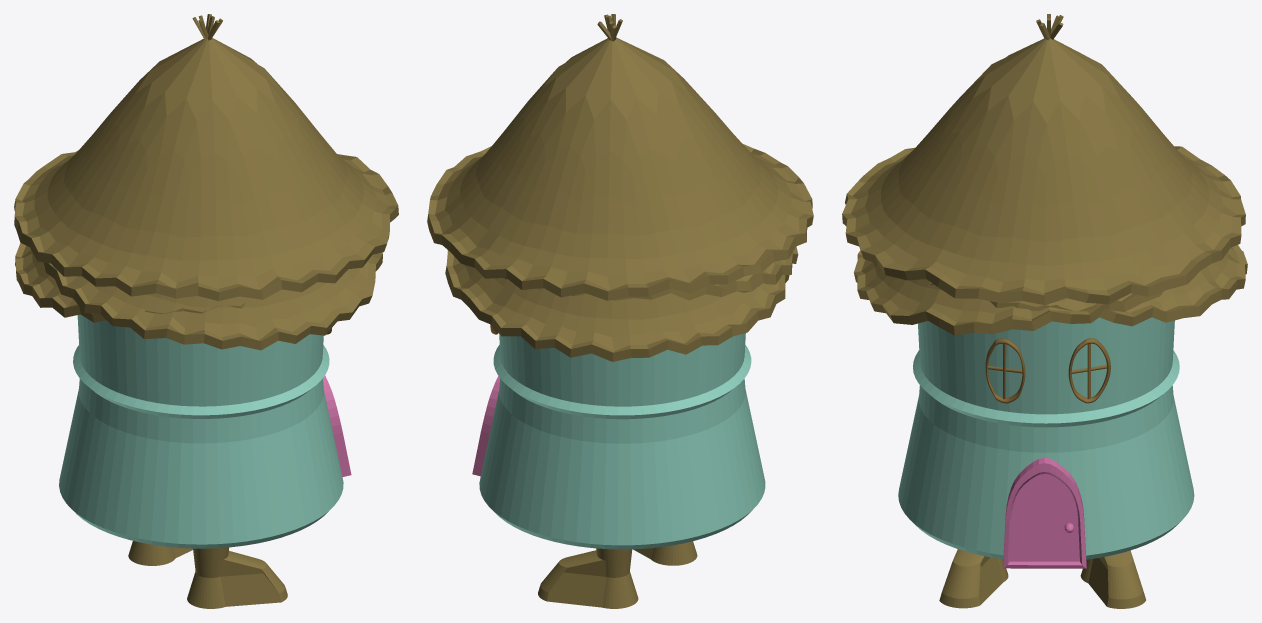
File: munchkinsmodelfixed1.glb
3 views of the same model, side by side, from view 1: azimuth 30°, elevation 25°; view 2: azimuth 150°, elevation 25°; view 3: azimuth 270°, elevation 25° (orthographic). The views are drawn at different scales.
Visible parts, largest first — view 1: Cone.006, Cylinder.008, Cone.007, Cylinder.010, Cone.008, Cylinder.006, Cube.008; view 2: Cone.006, Cylinder.008, Cone.008, Cylinder.006, Cone.007, Cylinder.010, Cube.008; view 3: Cone.006, Cylinder.008, Cone.007, Cube.008, Cone.008, Cylinder.010, Cylinder.006, Cylinder.009, Cylinder.007.
Part boxes in pixels (left/top/right/bottom): Cone.006: left=14, top=38, right=398, bottom=300; Cylinder.008: left=59, top=314, right=343, bottom=548; Cone.007: left=43, top=252, right=382, bottom=350; Cylinder.010: left=187, top=547, right=287, bottom=608; Cone.008: left=15, top=243, right=245, bottom=322; Cylinder.006: left=128, top=541, right=192, bottom=565; Cube.008: left=323, top=375, right=351, bottom=476; Cone.006: left=427, top=37, right=813, bottom=300; Cylinder.008: left=479, top=333, right=765, bottom=549; Cone.008: left=445, top=250, right=789, bottom=361; Cylinder.006: left=538, top=548, right=638, bottom=608; Cone.007: left=505, top=246, right=798, bottom=300; Cylinder.010: left=633, top=541, right=697, bottom=565; Cube.008: left=472, top=376, right=500, bottom=476; Cone.006: left=842, top=38, right=1245, bottom=305; Cylinder.008: left=898, top=317, right=1194, bottom=559; Cone.007: left=854, top=250, right=1163, bottom=335; Cube.008: left=1003, top=457, right=1086, bottom=568; Cone.008: left=929, top=245, right=1247, bottom=326; Cylinder.010: left=939, top=549, right=1008, bottom=608; Cylinder.006: left=1080, top=550, right=1145, bottom=608; Cylinder.009: left=1068, top=338, right=1110, bottom=403; Cylinder.007: left=985, top=338, right=1025, bottom=403.
Bounding box in the file's own units: 6.28 × 9.91 × 6.35.
